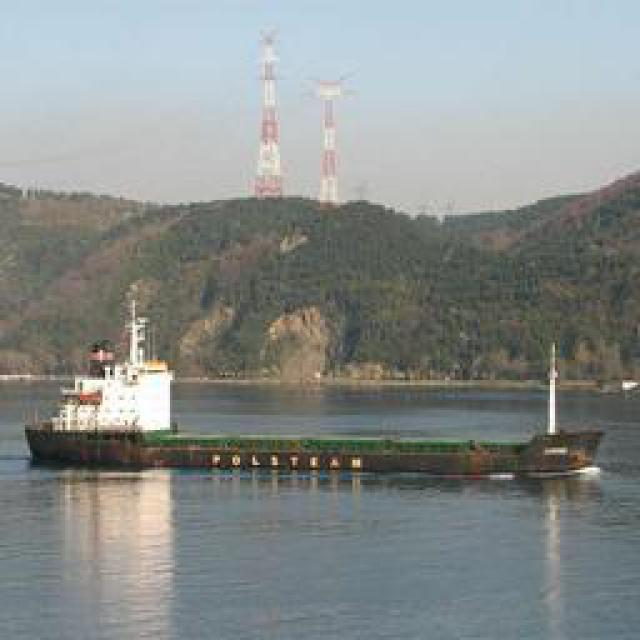Ship: (22, 301, 615, 483)
